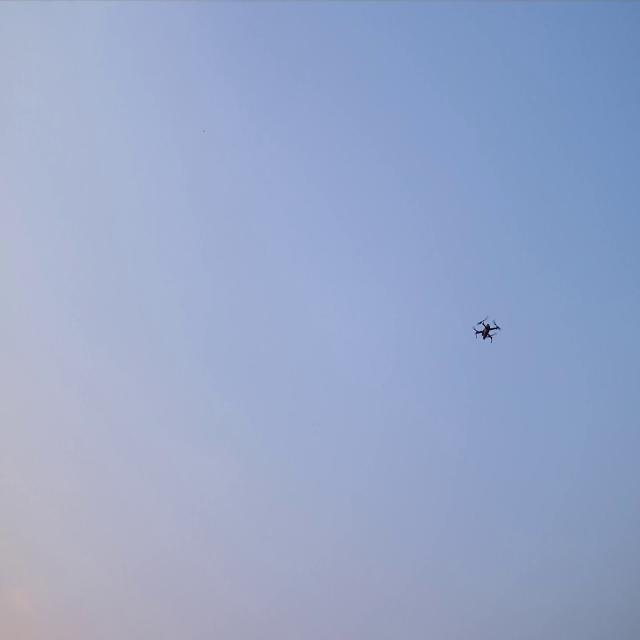UAV: (471, 314, 503, 344)
